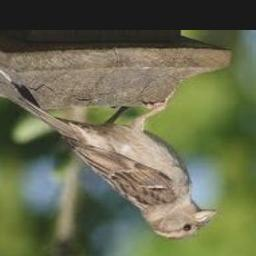Sparrow: (19, 94, 216, 239)
